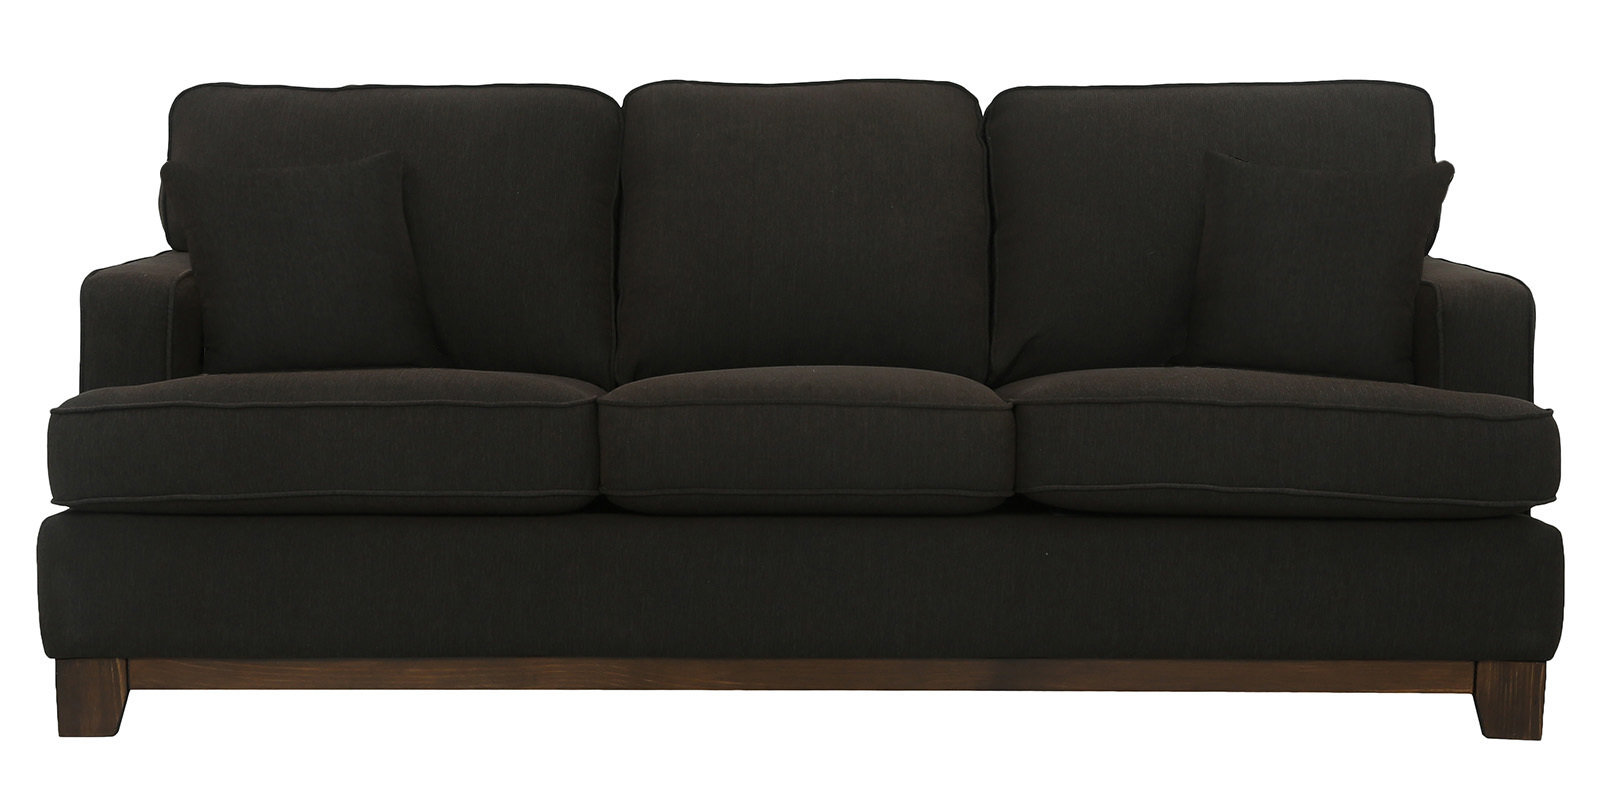Parana Three Seater Sofa in Chestnut Brown Color by CasaCraft: (31, 78, 1567, 741)
